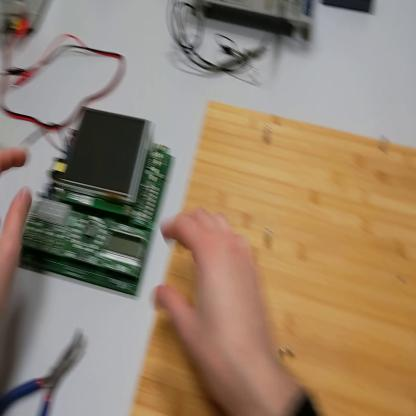hand: (153, 206, 276, 403), (1, 149, 34, 317)
low voltage board: (19, 107, 175, 297)
oscilloscope: (196, 1, 315, 45)
pliers: (2, 335, 85, 415)
power supply: (1, 1, 49, 40)
working area: (132, 100, 416, 415)
